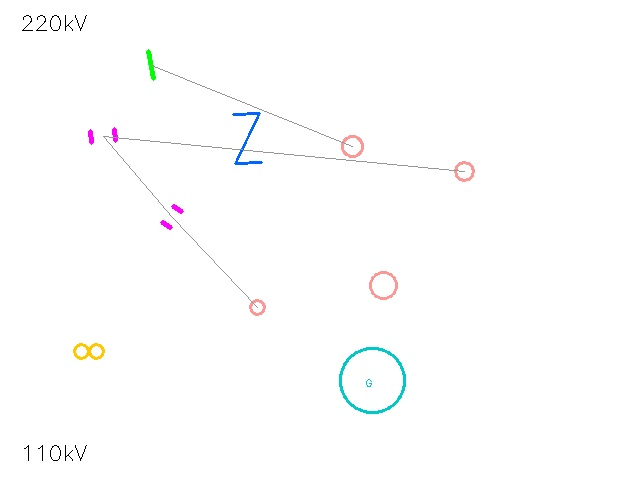busbar: (134, 48, 168, 82)
capacitor: (83, 116, 123, 156), (156, 201, 188, 233)
circuit_breaker: (220, 111, 274, 165)
current_transformer: (446, 153, 482, 189)
disconnect_switch: (332, 126, 372, 166)
feeder_terminal: (357, 259, 409, 311)
generator: (340, 348, 404, 412)
load_break_switch: (242, 292, 272, 322)
transformer_2w: (70, 332, 108, 370)
